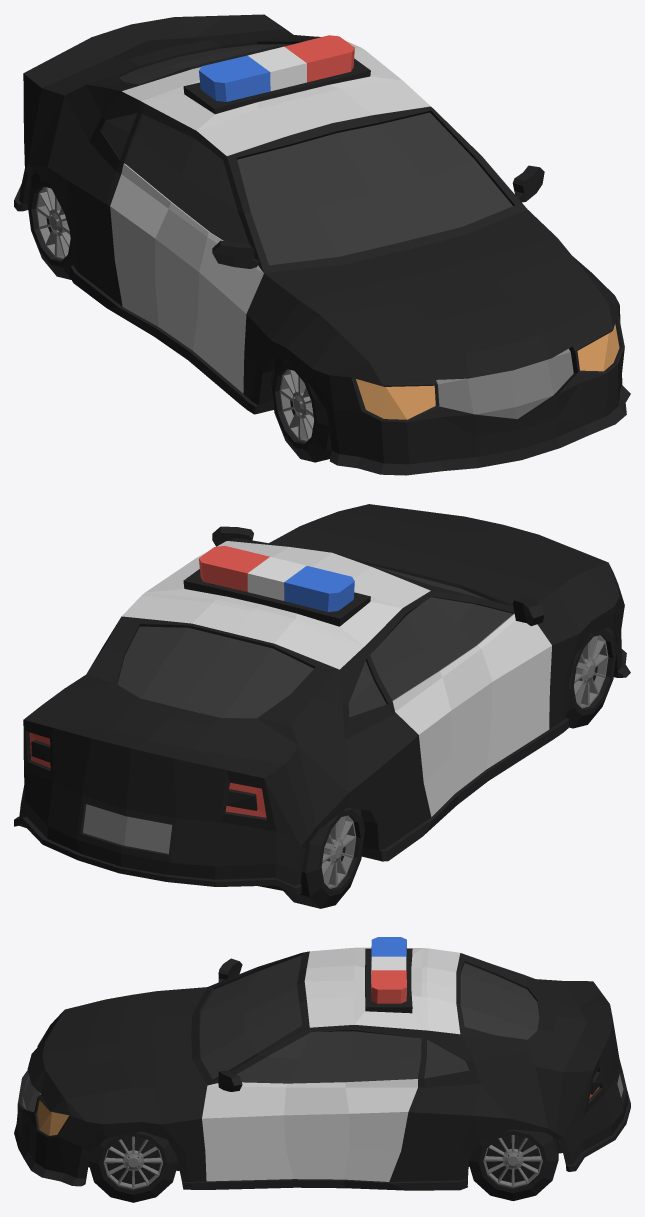
File: Cop.glb
3 views of the same model, one above another, from view 1: azimuth 30°, elevation 25°; view 2: azimuth 150°, elevation 25°; view 3: azimuth 270°, elevation 25° (orthographic). The views are drawn at different scales.
Parts seen in each view (by area): view 1: Cop, Cop_FrontRightWheel, Cop_BackWheels; view 2: Cop, Cop_BackWheels, Cop_FrontRightWheel; view 3: Cop, Cop_BackWheels.001, Cop_FrontLeftWheel.
Part boxes in pixels (bbox=[...]): Cop: bbox=[14, 14, 630, 475]; Cop_FrontRightWheel: bbox=[270, 358, 331, 462]; Cop_BackWheels: bbox=[27, 173, 73, 279]; Cop: bbox=[14, 504, 630, 895]; Cop_BackWheels: bbox=[283, 807, 364, 908]; Cop_FrontRightWheel: bbox=[566, 627, 617, 728]; Cop: bbox=[14, 937, 630, 1190]; Cop_BackWheels.001: bbox=[469, 1129, 558, 1200]; Cop_FrontLeftWheel: bbox=[88, 1131, 178, 1202].
Size of the model in its own units: 1.78 by 1.24 by 3.73.
